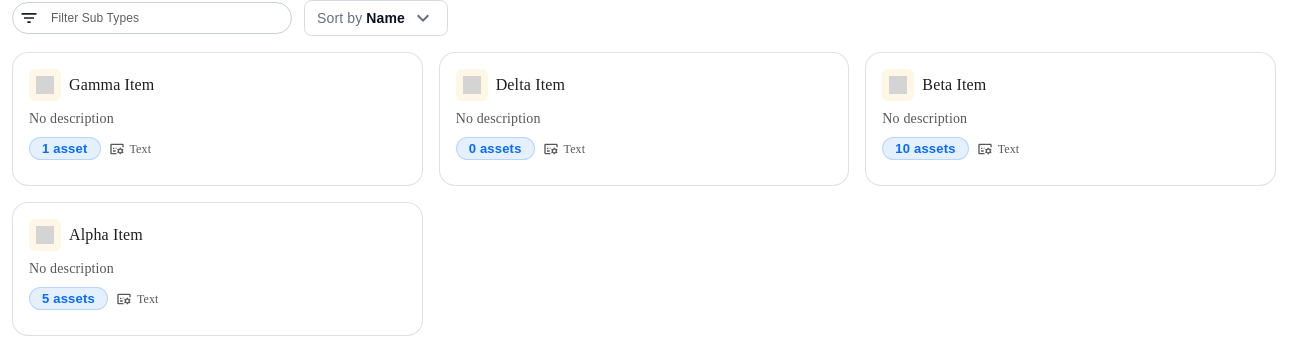
SubTypesTab › rendering › should render empty state when filter yields no results
The image size is (1292, 353).
Add filter for "nonexistent"
Step 1. Click the field with placeholder "Filter Sub Types" → (167,18), box top-left (47, 5), bottom-right (287, 31)
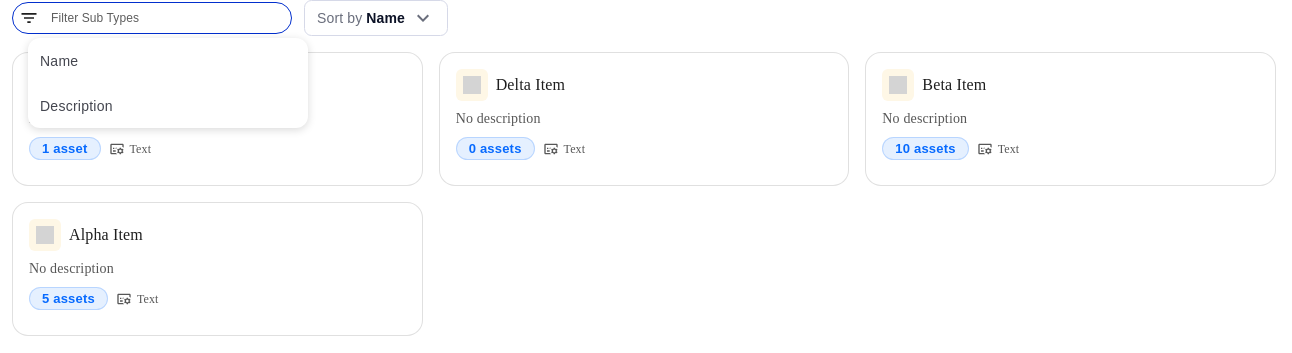
Step 2. Click the menu item "Name" → (59,60), box top-left (40, 52), bottom-right (78, 68)
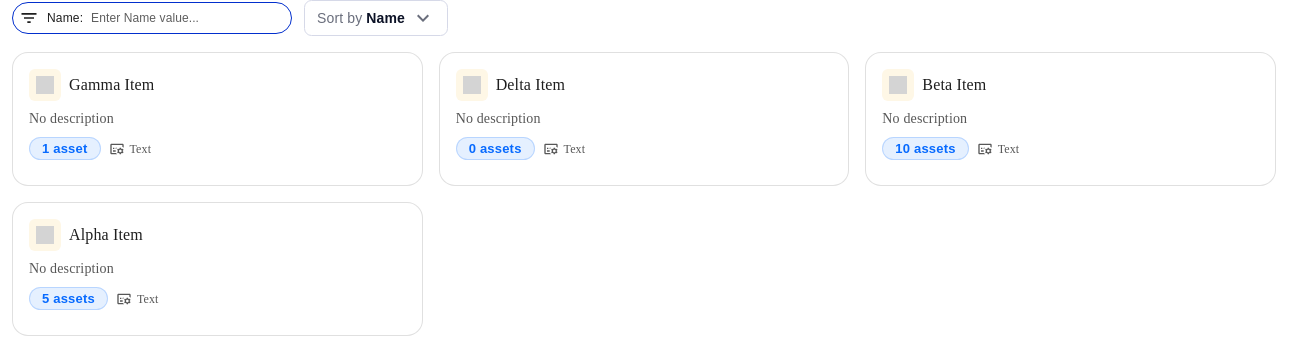
Step 3. Type "nonexistent" into the field with placeholder "Filter Sub Types" → (187,18), box top-left (87, 5), bottom-right (287, 31)
Then press Enter
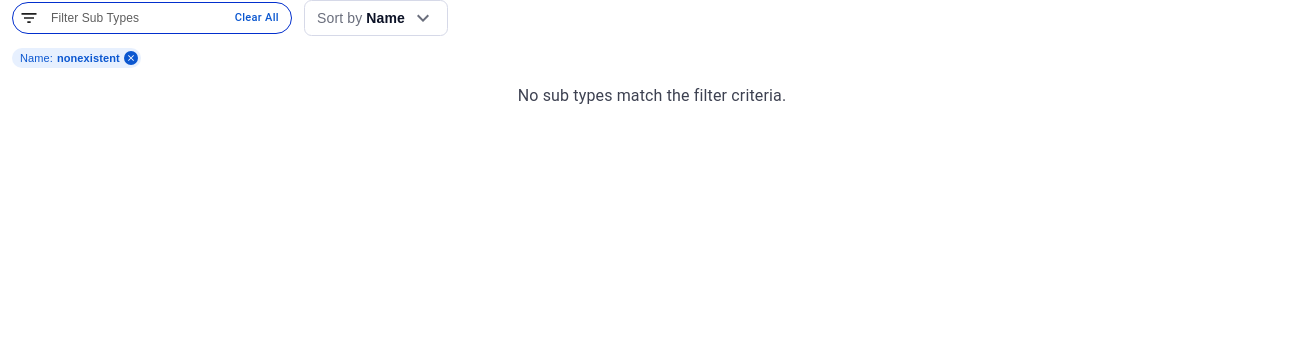
Expected: the text "No sub types match the filter criteria." is shown, top-left (518, 84), bottom-right (786, 108)
